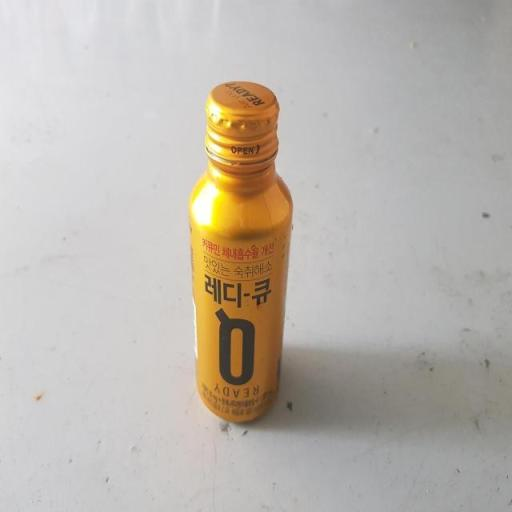metal: (162, 42, 371, 473)
